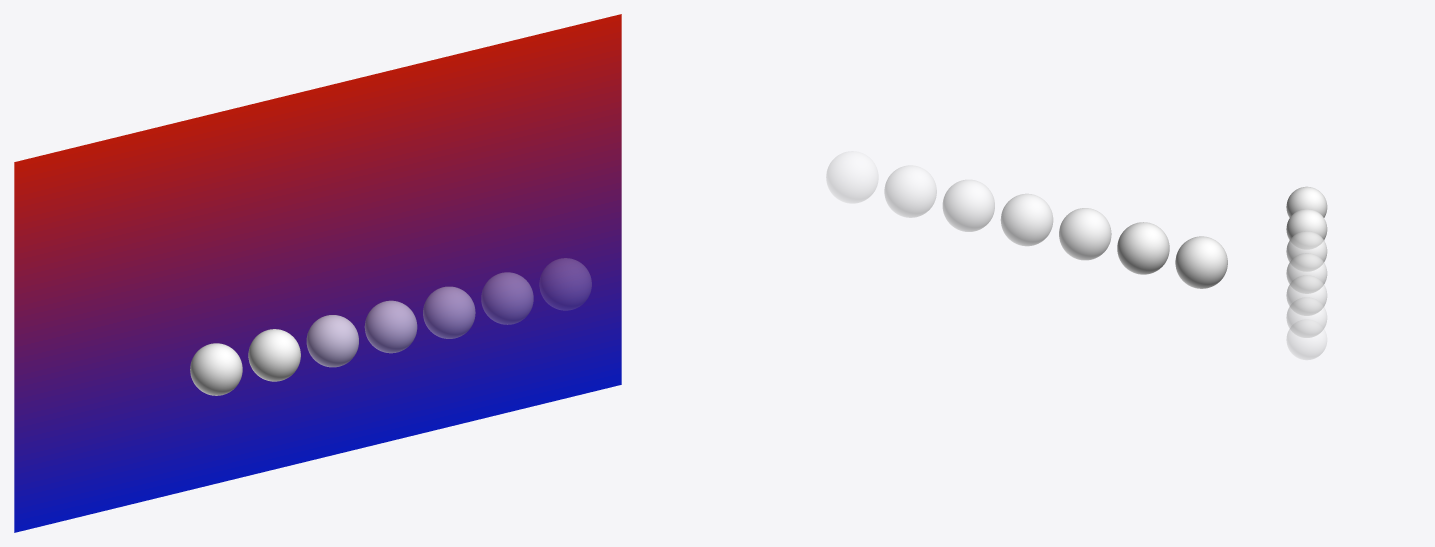
File: transmission_test.glb
The picture shows the model from 3 angles, left to right: view 1: azimuth 30°, elevation 25°; view 2: azimuth 150°, elevation 25°; view 3: azimuth 270°, elevation 25°; orthographic projection. The views are drawn at different scales.
Parts seen in each view (by area): view 1: backdrop, glass_0.00, glass_0.17, glass_0.33, glass_0.50, glass_0.67, glass_0.83, glass_1.00; view 2: glass_0.17, glass_0.00, glass_0.33, glass_0.50, glass_0.67, glass_0.83, glass_1.00; view 3: glass_0.33, glass_0.67, glass_0.17, glass_0.50, glass_0.83, glass_1.00, glass_0.00.
Part boxes in pixels (x1=…): backdrop: x1=14, y1=14, x2=621, y2=532; glass_0.00: x1=190, y1=343, x2=242, y2=395; glass_0.17: x1=248, y1=329, x2=300, y2=381; glass_0.33: x1=306, y1=315, x2=358, y2=367; glass_0.50: x1=364, y1=300, x2=417, y2=353; glass_0.67: x1=423, y1=286, x2=475, y2=338; glass_0.83: x1=481, y1=272, x2=533, y2=324; glass_1.00: x1=539, y1=258, x2=591, y2=310; glass_0.17: x1=1117, y1=222, x2=1169, y2=274; glass_0.00: x1=1175, y1=236, x2=1227, y2=288; glass_0.33: x1=1059, y1=208, x2=1111, y2=260; glass_0.50: x1=1000, y1=193, x2=1053, y2=246; glass_0.67: x1=942, y1=179, x2=994, y2=231; glass_0.83: x1=884, y1=165, x2=936, y2=217; glass_1.00: x1=826, y1=151, x2=878, y2=203; glass_0.33: x1=1286, y1=231, x2=1327, y2=271; glass_0.67: x1=1286, y1=275, x2=1327, y2=315; glass_0.17: x1=1286, y1=209, x2=1327, y2=249; glass_0.50: x1=1286, y1=253, x2=1327, y2=293; glass_0.83: x1=1286, y1=297, x2=1326, y2=337; glass_1.00: x1=1286, y1=319, x2=1326, y2=359; glass_0.00: x1=1286, y1=186, x2=1327, y2=217.
Size of the model in its own units: 12 by 7 by 2.95.
8 materials, 1 textured.
